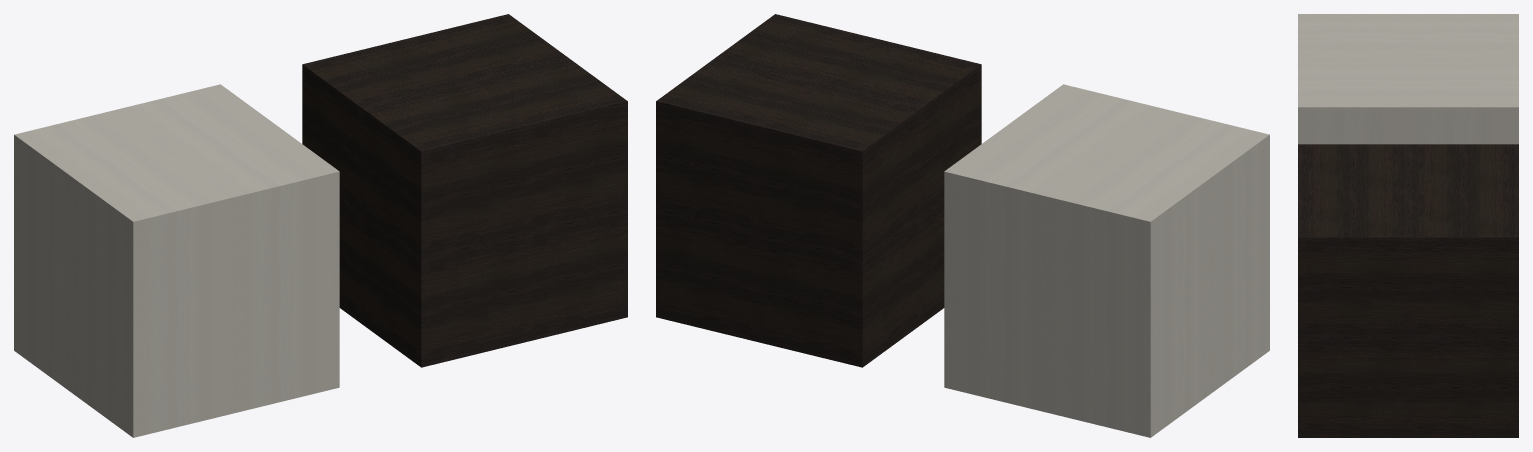
The model's file is ChessMaterial.glb.
The picture shows the model from 3 angles, left to right: view 1: azimuth 30°, elevation 25°; view 2: azimuth 150°, elevation 25°; view 3: azimuth 270°, elevation 25°; orthographic projection. The views are drawn at different scales.
Parts seen in each view (by area): view 1: Cube, Cube.001; view 2: Cube, Cube.001; view 3: Cube.001, Cube.
Part boxes in pixels (x1,y1,x2,y2): Cube: (14, 84, 339, 437); Cube.001: (302, 14, 627, 367); Cube: (944, 84, 1269, 437); Cube.001: (656, 14, 981, 367); Cube.001: (1298, 144, 1518, 437); Cube: (1298, 14, 1518, 144).
Bounding box in the file's own units: 4.79 × 2 × 2.
Materials: 2 (2 with a texture image).
